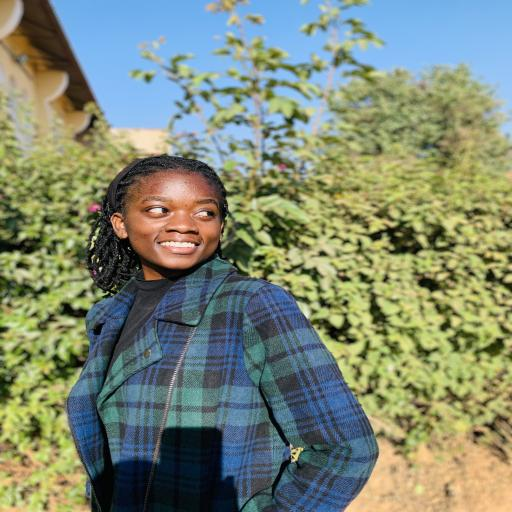LAURENE: (98, 151, 244, 277)
